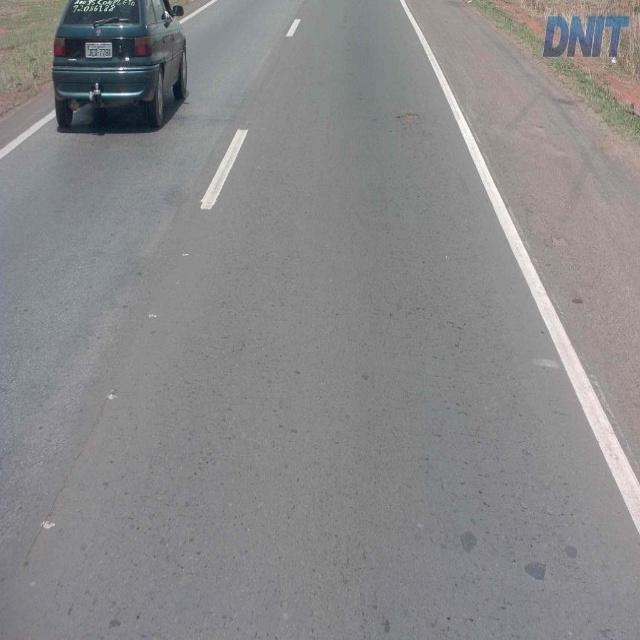pothole: (390, 107, 423, 125)
